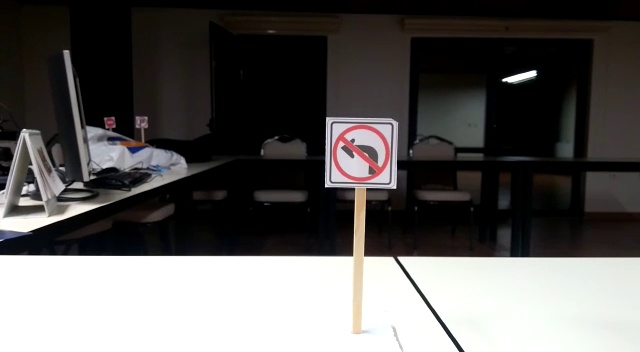sola_donulmez: (328, 123, 393, 183)
